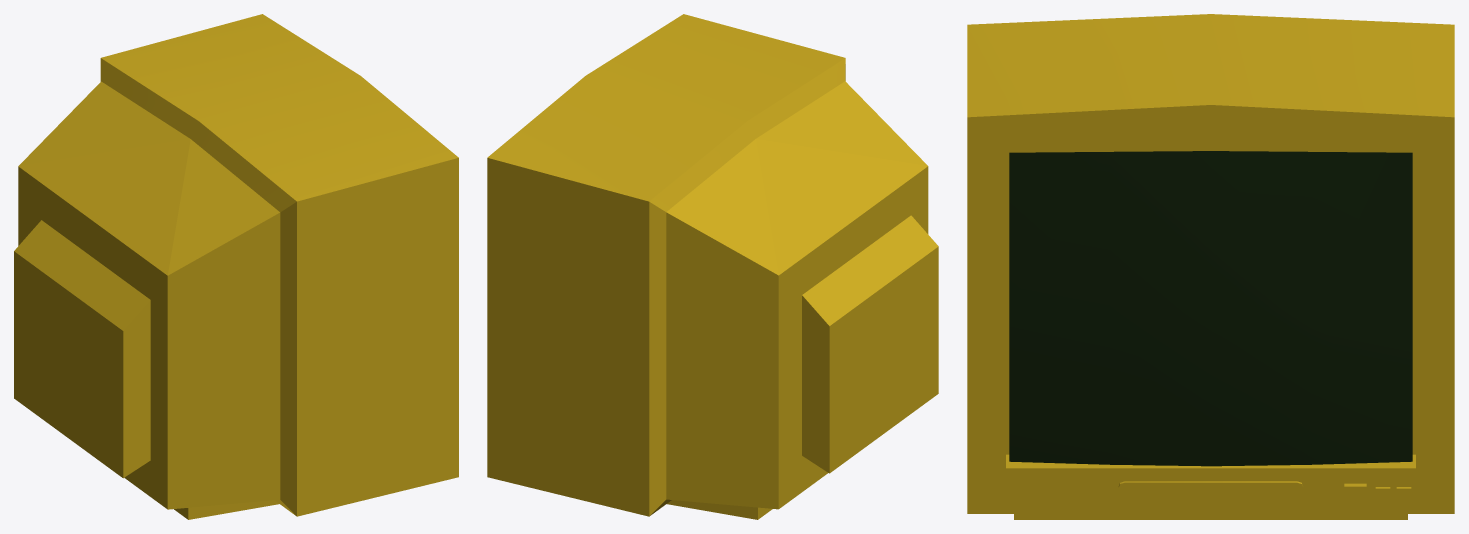
3 views of the same model, side by side, from view 1: azimuth 30°, elevation 25°; view 2: azimuth 150°, elevation 25°; view 3: azimuth 270°, elevation 25° (orthographic). The views are drawn at different scales.
Visible parts, largest first — view 1: Box011; view 2: Box011; view 3: Box011.
Boxes of the visible parts, x1=… form: Box011: x1=14, y1=14, x2=458, y2=519; Box011: x1=487, y1=14, x2=938, y2=519; Box011: x1=967, y1=14, x2=1454, y2=519.
Size of the model in its own units: 25.46 by 27.39 by 28.55.
